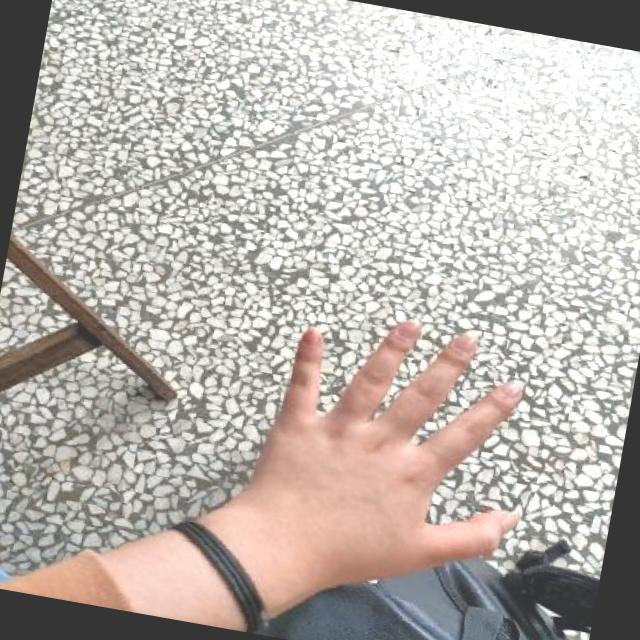bare_hand: (211, 321, 524, 604)
